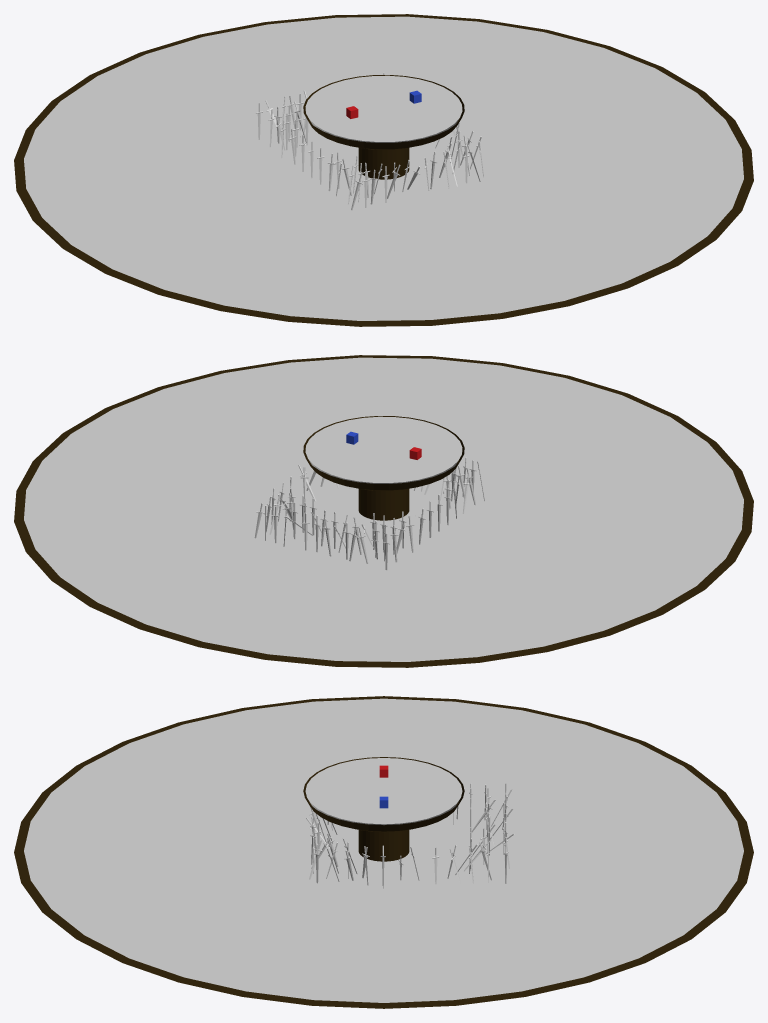
File: ScenarioMockup.fbx
The picture shows the model from 3 angles, top to bottom: view 1: azimuth 30°, elevation 25°; view 2: azimuth 150°, elevation 25°; view 3: azimuth 270°, elevation 25°; orthographic projection.
Parts seen in each view (by area): view 1: Circle, Circle.001; view 2: Circle, Circle.001; view 3: Circle, Circle.001.
Boxes of the visible parts, x1,y1,x2,y2 form: Circle: (24, 16, 743, 320); Circle.001: (14, 14, 753, 326); Circle: (24, 357, 743, 661); Circle.001: (14, 355, 753, 667); Circle: (24, 698, 743, 1002); Circle.001: (14, 696, 753, 1008).
Bounding box in the file's own units: 4669 × 503 × 4669.
